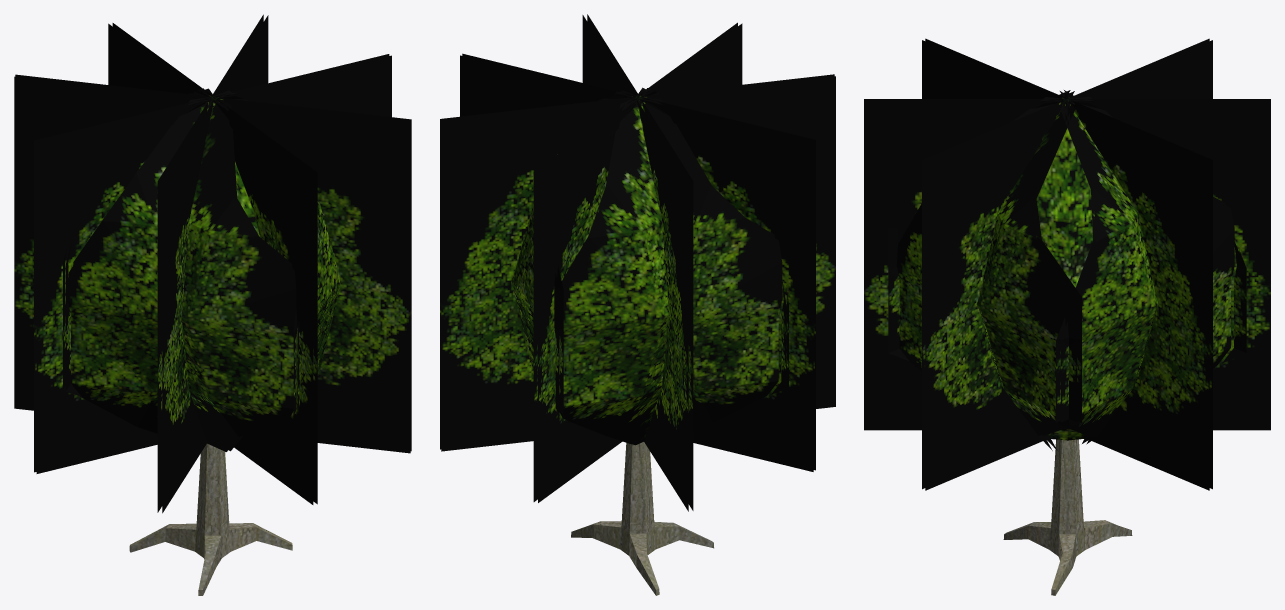
File: tree05.gltf
3 renders of one model, left to right at view 1: azimuth 30°, elevation 25°; view 2: azimuth 150°, elevation 25°; view 3: azimuth 270°, elevation 25°, orthographic.
Parts seen in each view (by area): view 1: tree05_top, tree05; view 2: tree05_top, tree05; view 3: tree05_top, tree05.
Part boxes in pixels (bbox=[...]): tree05_top: bbox=[14, 14, 411, 513]; tree05: bbox=[129, 443, 292, 595]; tree05_top: bbox=[440, 14, 835, 511]; tree05: bbox=[571, 442, 713, 595]; tree05_top: bbox=[864, 38, 1270, 490]; tree05: bbox=[1003, 439, 1132, 595].
Size of the model in its own units: 3.36 by 4.19 by 3.36.
Materials: 1 (1 with a texture image).
